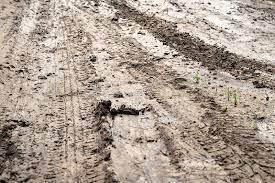vehicle_track: (37, 0, 275, 183), (105, 0, 275, 92), (42, 0, 108, 183)
